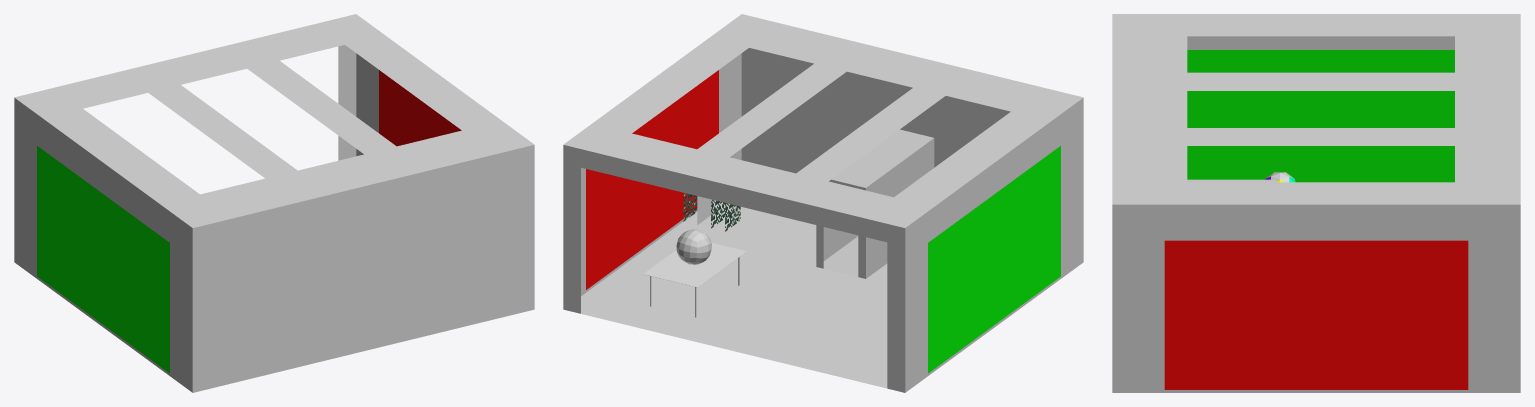
Rendered from lightweightRTtest.glb.
3 renders of one model, left to right at view 1: azimuth 30°, elevation 25°; view 2: azimuth 150°, elevation 25°; view 3: azimuth 270°, elevation 25°, orthographic. The views are drawn at different scales.
Parts seen in each view (by area): view 1: Plane; view 2: Plane, Cube, table.002, Cube.001; view 3: Plane, Cube.
Part boxes in pixels (left/top/right/bottom): Plane: left=14, top=14, right=534, bottom=392; Plane: left=563, top=14, right=1083, bottom=392; Cube: left=816, top=129, right=934, bottom=278; table.002: left=643, top=242, right=746, bottom=317; Cube.001: left=676, top=229, right=711, bottom=264; Plane: left=1112, top=14, right=1520, bottom=392; Cube: left=1187, top=179, right=1276, bottom=182.
Bounding box in the file's own units: 7.63 × 3.51 × 6.91.
Materials: 17 (1 with a texture image).
